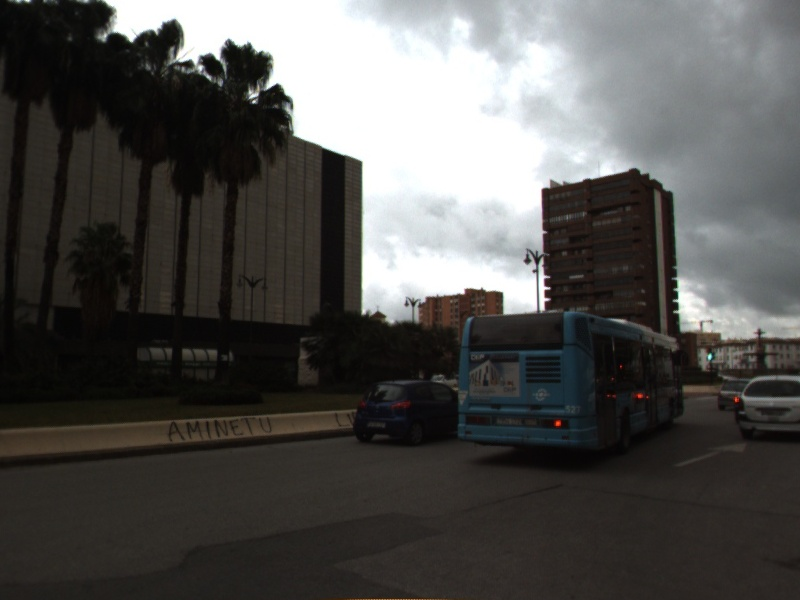STRAIGHT: (671, 440, 750, 469)
